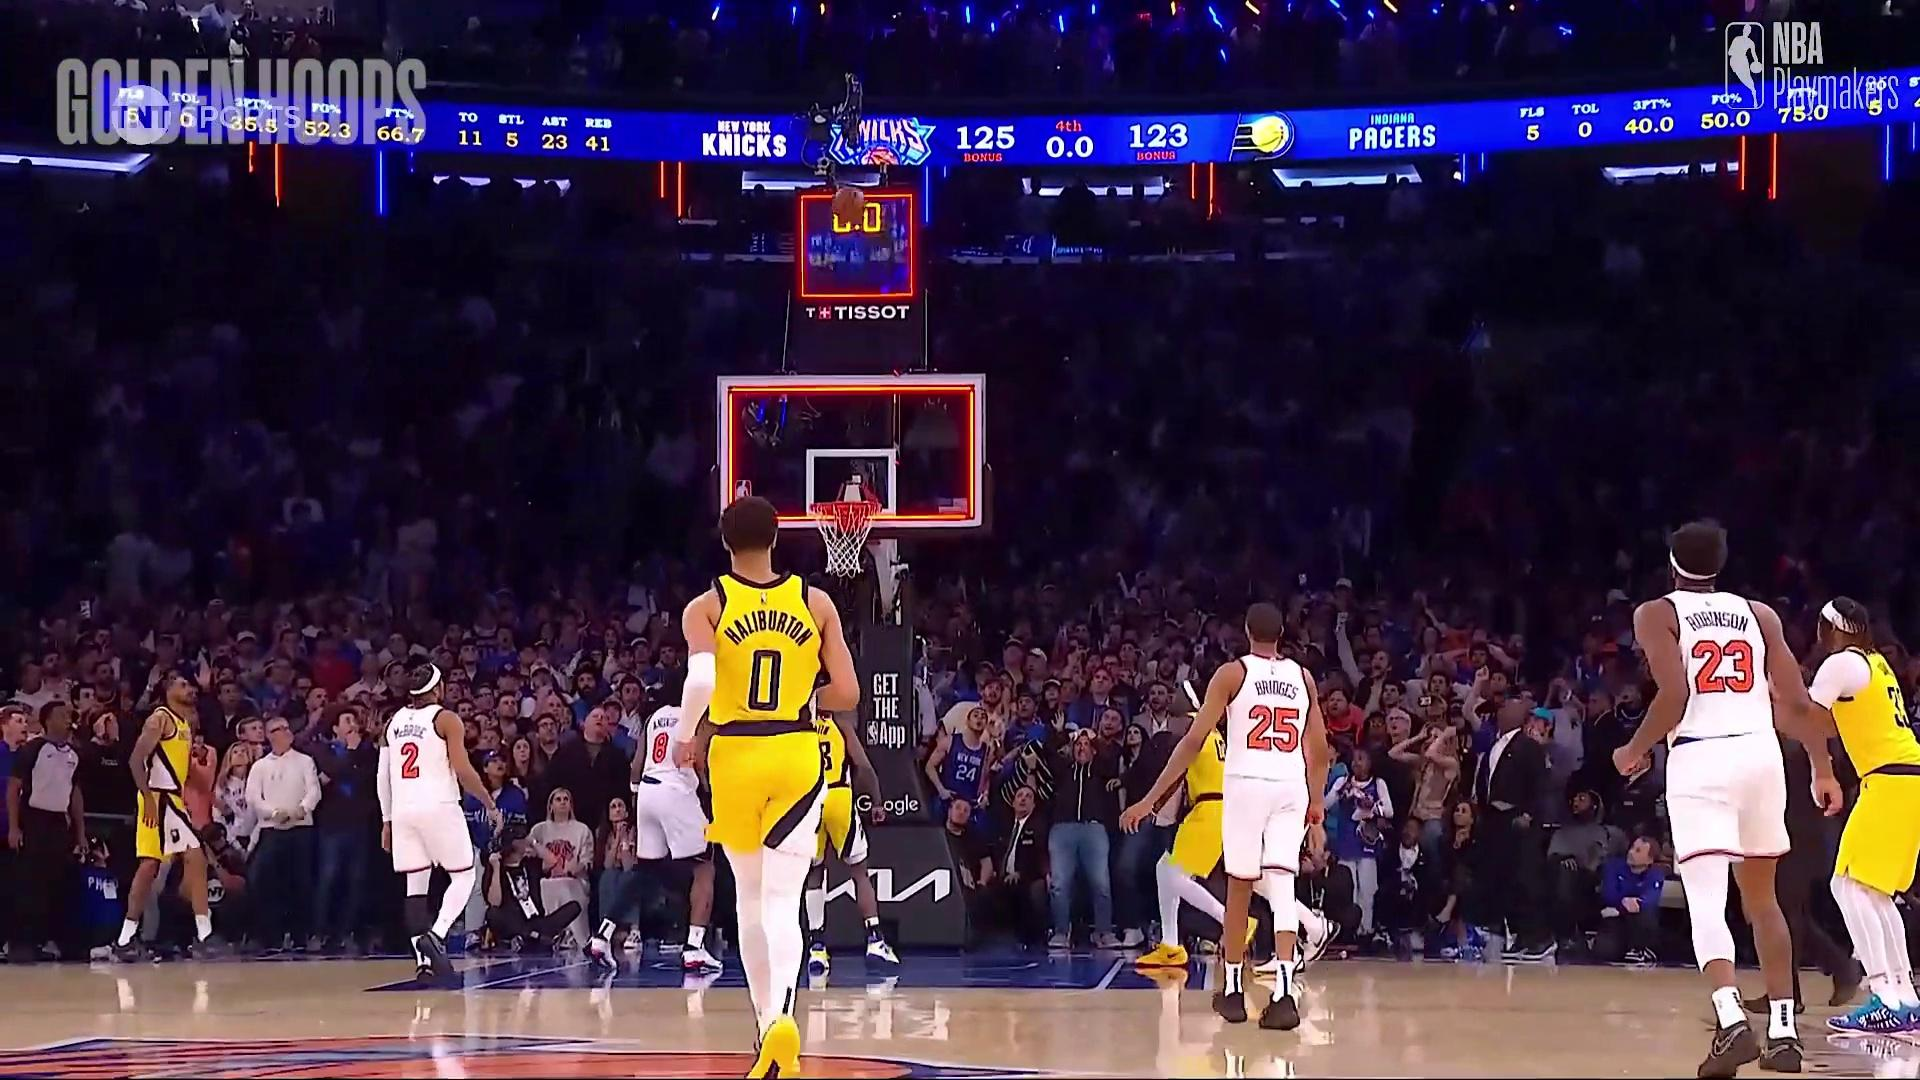ball: (829, 186, 868, 227)
hoop: (806, 496, 882, 579)
